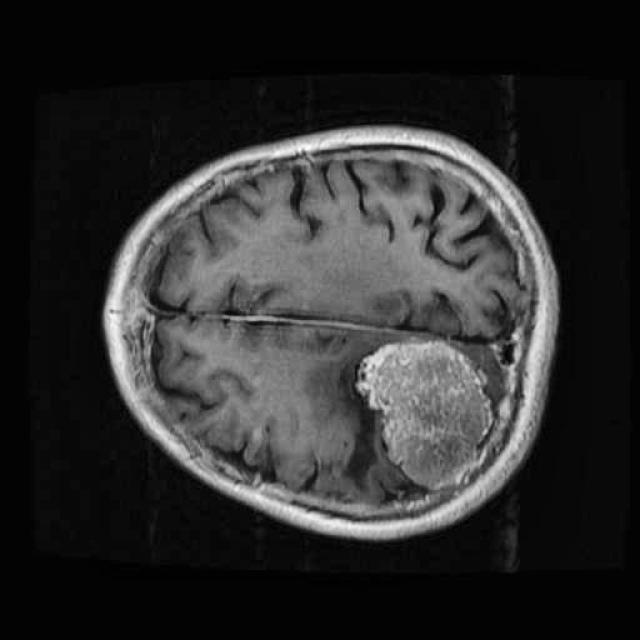Tumor: (348, 326, 509, 509)
